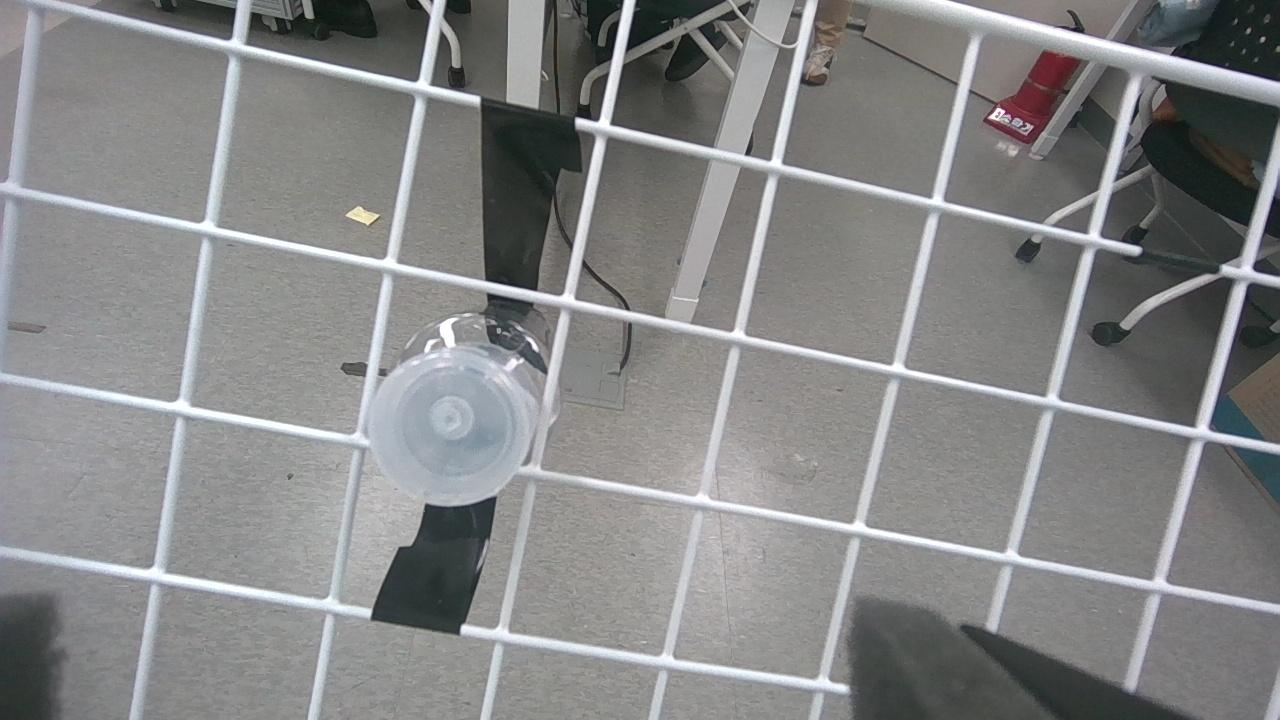Cap: (371, 351, 526, 509)
